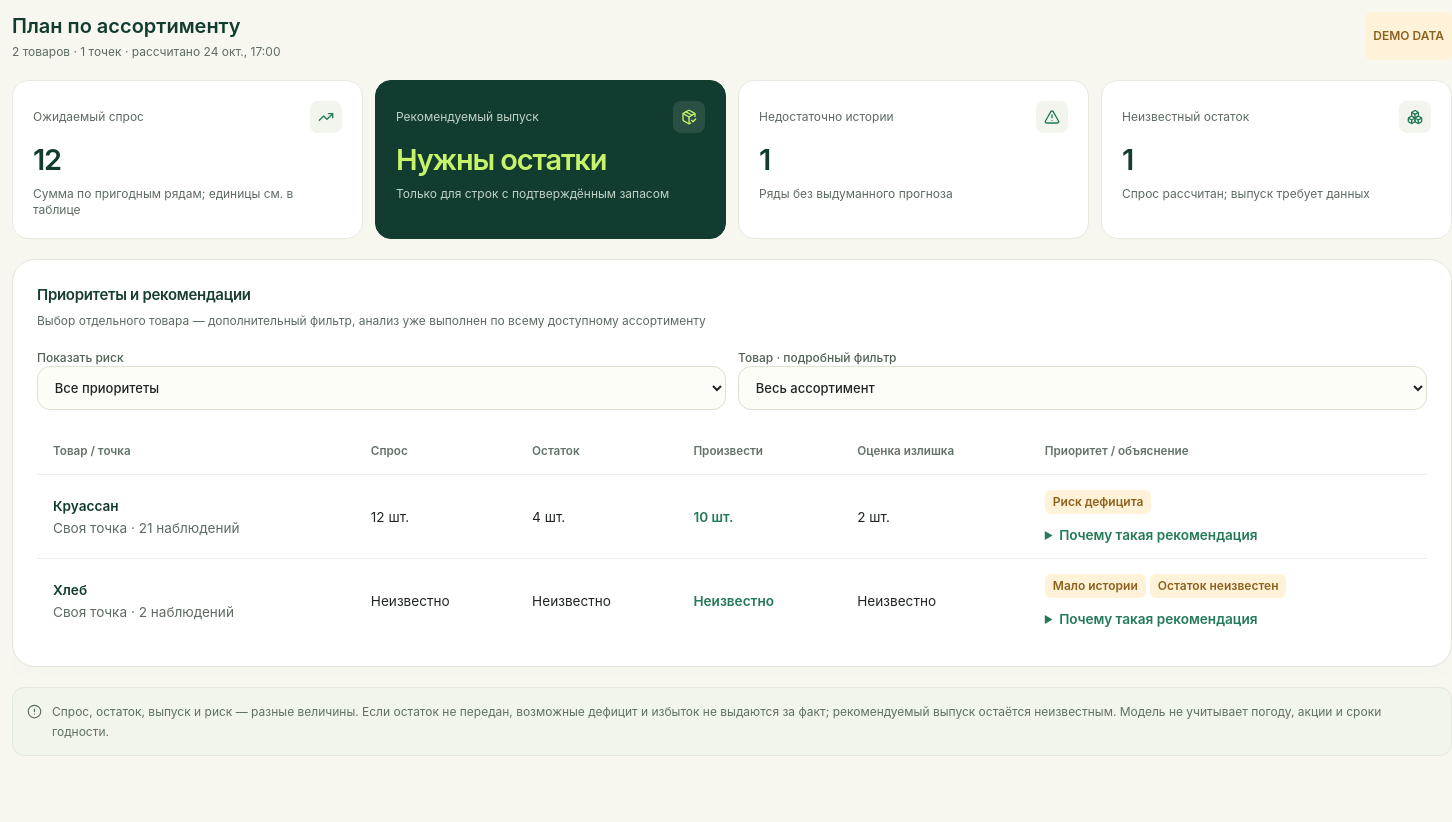
it: automatic assortment planning › shows every product before a secondary risk filter and keeps unknown stock distinct from zero
Expected: the cell "Круассан Своя точка · 21 наблюдений" is shown, [37,475,355,559]
Expected: the cell "Хлеб Своя точка · 2 наблюдений" is shown, [37,559,355,642]
Select "Риск дефицита" in the dropdown labelled "Показать риск". click: (382, 388)
box: [37,366,726,410]
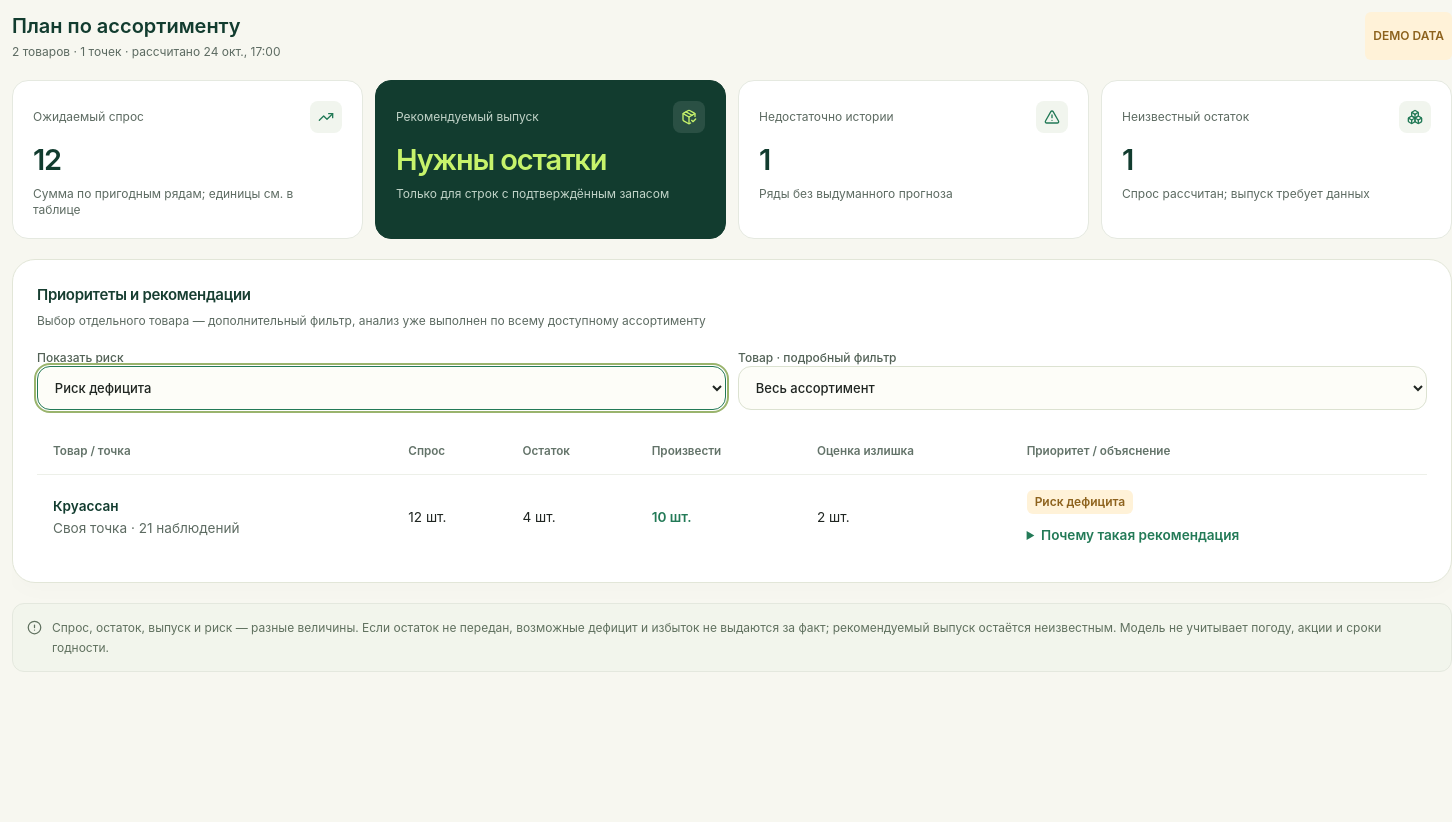
Expected: the cell "Круассан Своя точка · 21 наблюдений" is shown, [37,475,392,558]
Expected: the text "Хлеб" is gone
